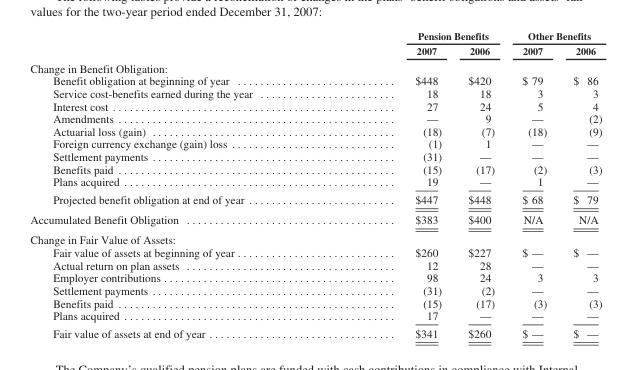table: (29, 29, 601, 339)
table column: (29, 29, 333, 339), (333, 29, 454, 339), (454, 29, 507, 339), (507, 29, 559, 339), (559, 29, 601, 339)
table column header: (29, 29, 601, 58)
table projected row header: (29, 58, 601, 74), (29, 229, 601, 245)
table row: (29, 209, 601, 229), (29, 190, 601, 209), (29, 42, 601, 58), (29, 58, 601, 74), (29, 229, 601, 245), (29, 308, 601, 324), (29, 175, 601, 190), (29, 324, 601, 339), (29, 29, 601, 42), (29, 86, 601, 99), (29, 99, 601, 112), (29, 124, 601, 137), (29, 149, 601, 162), (29, 162, 601, 175), (29, 245, 601, 258), (29, 258, 601, 271), (29, 283, 601, 296), (29, 74, 601, 86), (29, 112, 601, 124), (29, 137, 601, 149), (29, 271, 601, 283), (29, 296, 601, 308)
table spanning cell: (333, 29, 507, 42), (507, 29, 601, 42)
